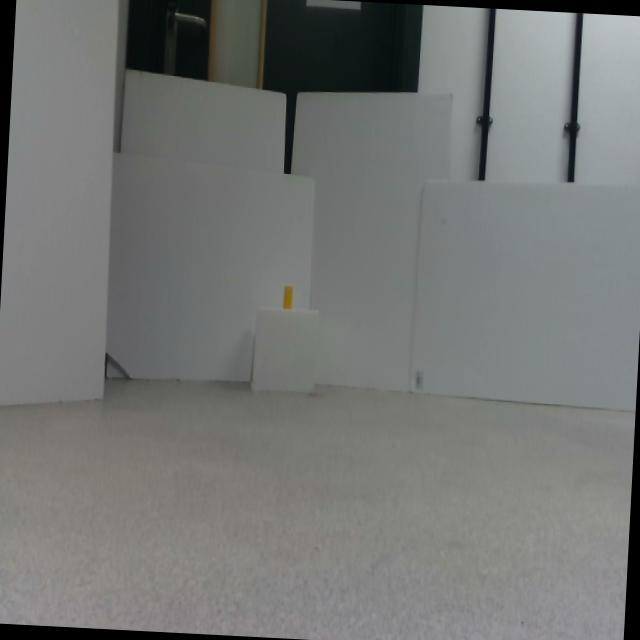yellow_cylinder: (282, 286, 293, 310)
